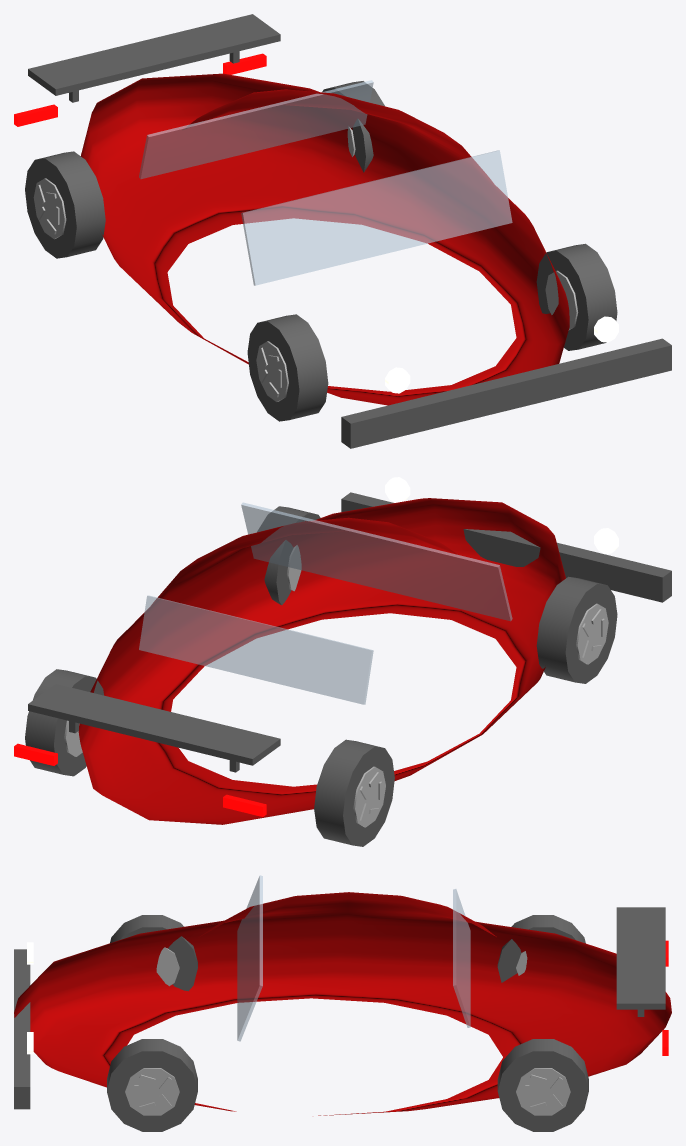
File: sports.glb
The picture shows the model from 3 angles, top to bottom: view 1: azimuth 30°, elevation 25°; view 2: azimuth 150°, elevation 25°; view 3: azimuth 270°, elevation 25°; orthographic projection. The views are drawn at different scales.
Visible parts, largest first — view 1: SportsBody, windshield, front_bumper, rear_window, spoiler_base, wheel_RL, wheel_FL, wheel_FR, wheel_RR; view 2: SportsBody, windshield, rear_window, spoiler_base, wheel_RL, wheel_FL, front_bumper, wheel_RR, wheel_FR, taillight_L, taillight_R; view 3: SportsBody, wheel_RR, wheel_FR, spoiler_base, windshield, wheel_FL, front_bumper, wheel_RL, rear_window.
Part boxes in pixels (x1,y1,x2,y2): SportsBody: [81, 73, 569, 405]; windshield: [241, 150, 512, 285]; front_bumper: [341, 338, 671, 448]; rear_window: [139, 80, 373, 178]; spoiler_base: [28, 14, 280, 95]; wheel_RL: [25, 151, 105, 258]; wheel_FL: [247, 314, 328, 421]; wheel_FR: [536, 243, 617, 350]; wheel_RR: [322, 81, 384, 172]; SportsBody: [78, 498, 565, 824]; windshield: [241, 502, 512, 621]; rear_window: [139, 595, 373, 704]; spoiler_base: [28, 684, 280, 765]; wheel_RL: [314, 739, 394, 846]; wheel_FL: [536, 576, 617, 683]; front_bumper: [341, 492, 671, 602]; wheel_RR: [25, 669, 103, 776]; wheel_FR: [257, 506, 320, 605]; taillight_L: [223, 794, 266, 816]; taillight_R: [14, 743, 57, 765]; SportsBody: [14, 892, 671, 1115]; wheel_RR: [497, 1039, 588, 1131]; wheel_FR: [107, 1039, 197, 1131]; spoiler_base: [616, 907, 665, 1009]; windshield: [237, 875, 262, 1041]; wheel_FL: [110, 915, 197, 991]; front_bumper: [14, 949, 30, 1109]; wheel_RL: [497, 915, 585, 982]; rear_window: [453, 889, 470, 1027].
Bounding box in the file's own units: 2.02 × 0.9479 × 4.04.
